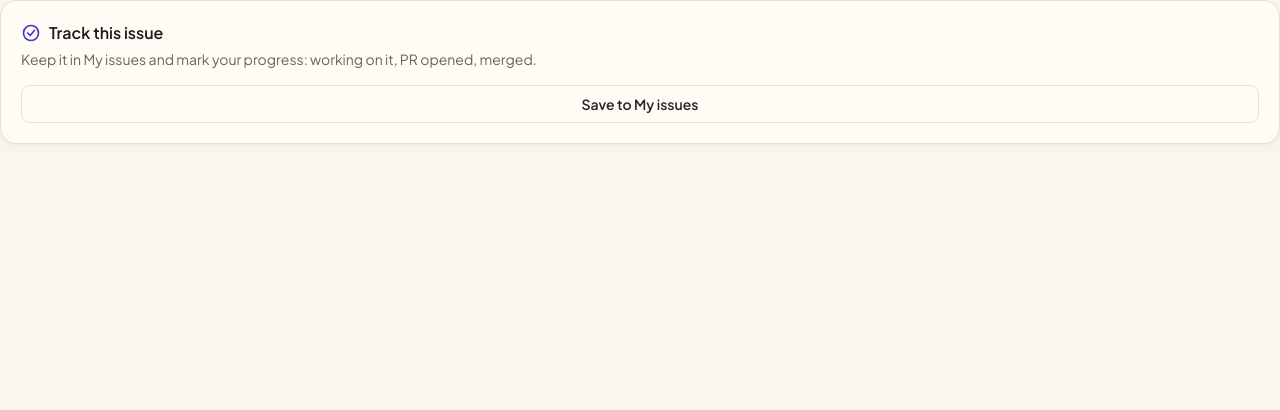
Test case: TrackIssue › saves, then moves the issue along the steps
The image size is (1280, 410).
Click the button "Save to My issues" at (640, 104), box x1=21 y1=85 x2=1259 y2=123
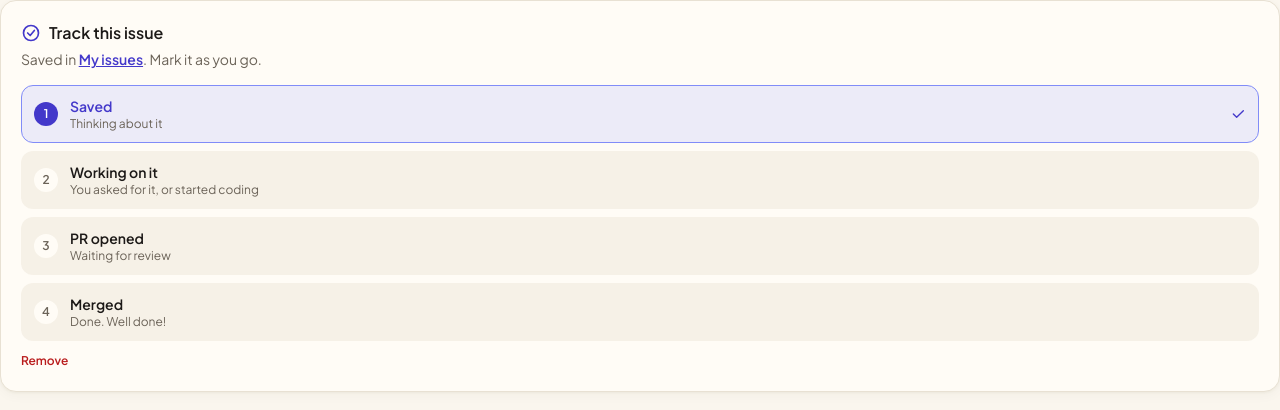
Result: the radio button labelled "Saved" is checked at x1=70 y1=97 x2=112 y2=115
Click the radio button labelled "PR opened" at (107, 238), box x1=70 y1=229 x2=144 y2=247
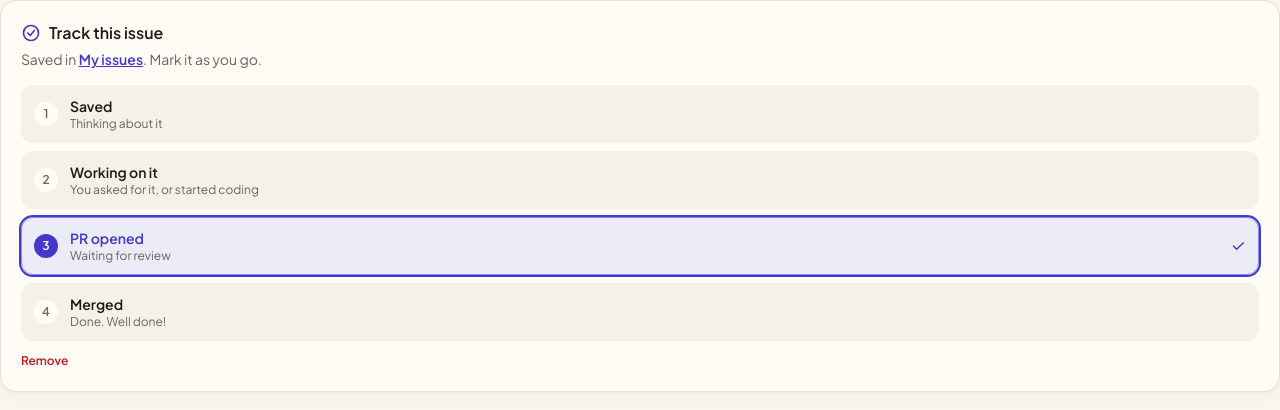
Result: the radio button labelled "PR opened" is checked at x1=70 y1=229 x2=144 y2=247
